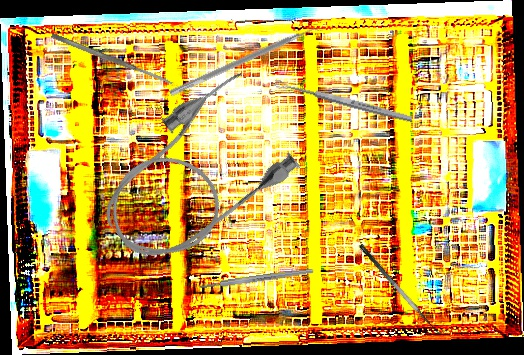Cannula: (78, 62, 311, 284)
Scalpel Handle: (198, 267, 315, 291)
Spatula Surgical: (168, 20, 325, 104), (358, 236, 448, 341), (50, 31, 174, 88)
Surgical Spoon: (273, 78, 414, 124)
